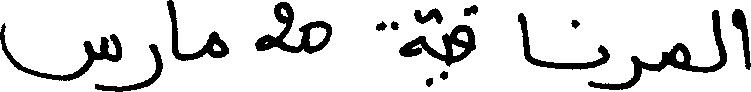X: (0, 18, 121, 91), (251, 0, 300, 57), (123, 39, 160, 91), (399, 5, 424, 61), (453, 0, 473, 67), (302, 16, 331, 58), (611, 51, 639, 91), (711, 5, 726, 76), (735, 4, 750, 74), (513, 8, 529, 66), (207, 26, 226, 62), (671, 38, 689, 75), (167, 0, 177, 63), (600, 40, 609, 91), (444, 27, 451, 84)
